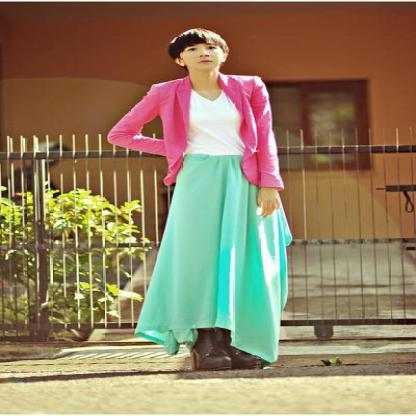jacket: (107, 58, 279, 187)
shirt: (185, 92, 245, 154)
shoe: (195, 327, 261, 370)
skirt: (132, 151, 291, 362)
